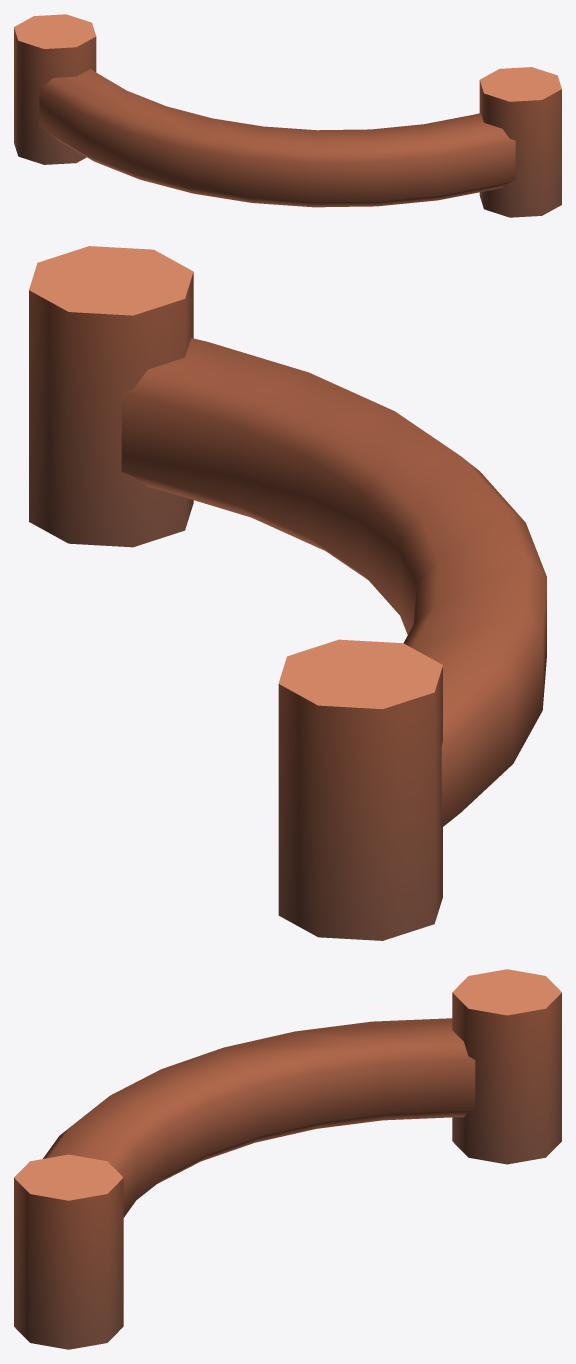
Rendered from fence-low-corner-curved.glb.
3 renders of one model, top to bottom at view 1: azimuth 30°, elevation 25°; view 2: azimuth 150°, elevation 25°; view 3: azimuth 270°, elevation 25°, orthographic. The views are drawn at different scales.
Visible parts, largest first — view 1: fence-low-corner-curved; view 2: fence-low-corner-curved; view 3: fence-low-corner-curved.
Boxes of the visible parts, bbox=[...] form: fence-low-corner-curved: bbox=[14, 14, 561, 217]; fence-low-corner-curved: bbox=[29, 246, 546, 940]; fence-low-corner-curved: bbox=[14, 969, 561, 1349].
Size of the model in its own units: 1 by 0.3 by 1.
1 material, 1 textured.
